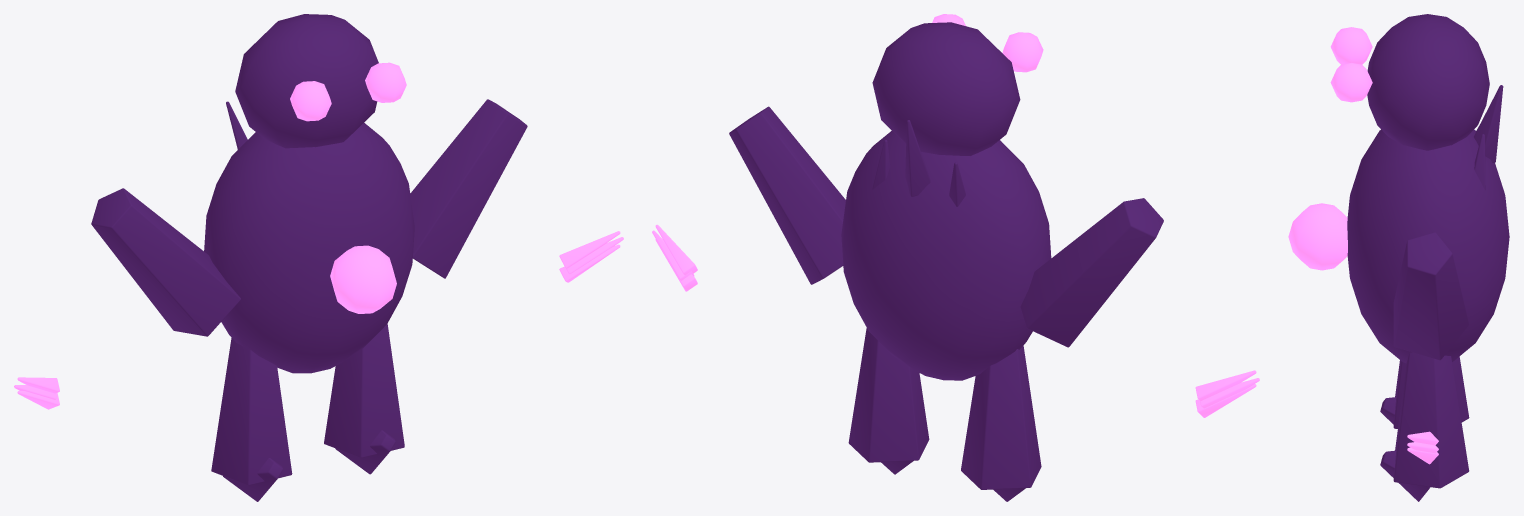
The model's file is SM_ShadowImp_LOD0.fbx.
3 renders of one model, left to right at view 1: azimuth 30°, elevation 25°; view 2: azimuth 150°, elevation 25°; view 3: azimuth 270°, elevation 25°, orthographic. The views are drawn at different scales.
Parts seen in each view (by area): view 1: SM_ShadowImp_Torso, SM_ShadowImp_Head, SM_ShadowImp_Arm_L, SM_ShadowImp_Arm_R, SM_ShadowImp_Leg_L, SM_ShadowImp_Leg_R, SM_ShadowImp_AttackTellOrb, SM_ShadowImp_Eye_L, SM_ShadowImp_Eye_R, SM_ShadowImp_Foot_L, SM_ShadowImp_Foot_R, SM_ShadowImp_Claw_R_2; view 2: SM_ShadowImp_Torso, SM_ShadowImp_Head, SM_ShadowImp_Arm_L, SM_ShadowImp_Arm_R, SM_ShadowImp_Leg_L, SM_ShadowImp_Leg_R, SM_ShadowImp_Eye_L, SM_ShadowImp_BackSpike_0, SM_ShadowImp_Claw_L_2; view 3: SM_ShadowImp_Torso, SM_ShadowImp_Head, SM_ShadowImp_Leg_R, SM_ShadowImp_Arm_R, SM_ShadowImp_AttackTellOrb, SM_ShadowImp_Eye_R, SM_ShadowImp_Eye_L, SM_ShadowImp_BackSpike_0, SM_ShadowImp_Leg_L, SM_ShadowImp_Foot_R, SM_ShadowImp_BackSpike_2, SM_ShadowImp_Foot_L (+1 smaller).
Part boxes in pixels (x1,y1,x2,y2): SM_ShadowImp_Torso: [204, 123, 414, 373]; SM_ShadowImp_Head: [235, 14, 378, 148]; SM_ShadowImp_Arm_L: [91, 188, 240, 336]; SM_ShadowImp_Arm_R: [410, 99, 527, 278]; SM_ShadowImp_Leg_L: [211, 337, 292, 485]; SM_ShadowImp_Leg_R: [324, 324, 404, 457]; SM_ShadowImp_AttackTellOrb: [330, 245, 396, 313]; SM_ShadowImp_Eye_L: [290, 81, 331, 121]; SM_ShadowImp_Eye_R: [365, 62, 406, 102]; SM_ShadowImp_Foot_L: [223, 458, 282, 501]; SM_ShadowImp_Foot_R: [335, 430, 395, 474]; SM_ShadowImp_Claw_R_2: [559, 231, 620, 268]; SM_ShadowImp_Torso: [841, 131, 1051, 380]; SM_ShadowImp_Head: [872, 22, 1020, 155]; SM_ShadowImp_Arm_L: [1020, 198, 1163, 347]; SM_ShadowImp_Arm_R: [729, 106, 845, 284]; SM_ShadowImp_Leg_L: [961, 345, 1041, 489]; SM_ShadowImp_Leg_R: [848, 328, 929, 462]; SM_ShadowImp_Eye_L: [1002, 32, 1043, 72]; SM_ShadowImp_BackSpike_0: [905, 120, 930, 196]; SM_ShadowImp_Claw_L_2: [1195, 370, 1256, 400]; SM_ShadowImp_Torso: [1347, 129, 1509, 363]; SM_ShadowImp_Head: [1367, 14, 1489, 150]; SM_ShadowImp_Leg_R: [1393, 352, 1469, 488]; SM_ShadowImp_Arm_R: [1393, 232, 1469, 360]; SM_ShadowImp_AttackTellOrb: [1288, 203, 1347, 270]; SM_ShadowImp_Eye_R: [1330, 62, 1372, 102]; SM_ShadowImp_Eye_L: [1330, 27, 1372, 64]; SM_ShadowImp_BackSpike_0: [1474, 85, 1503, 162]; SM_ShadowImp_Leg_L: [1393, 356, 1469, 428]; SM_ShadowImp_Foot_R: [1380, 450, 1430, 501]; SM_ShadowImp_BackSpike_2: [1474, 134, 1485, 190]; SM_ShadowImp_Foot_L: [1380, 397, 1396, 424].
Size of the model in its own units: 1.62 by 1.19 by 0.5242.
